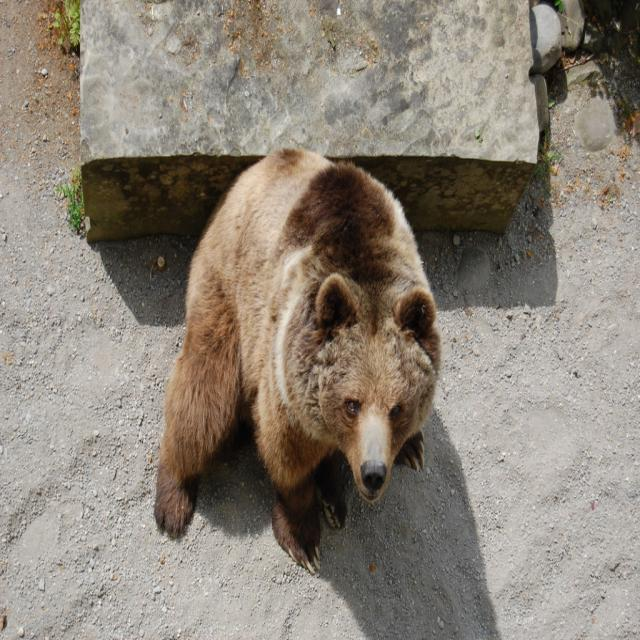Cheetahs: (153, 146, 444, 578)
